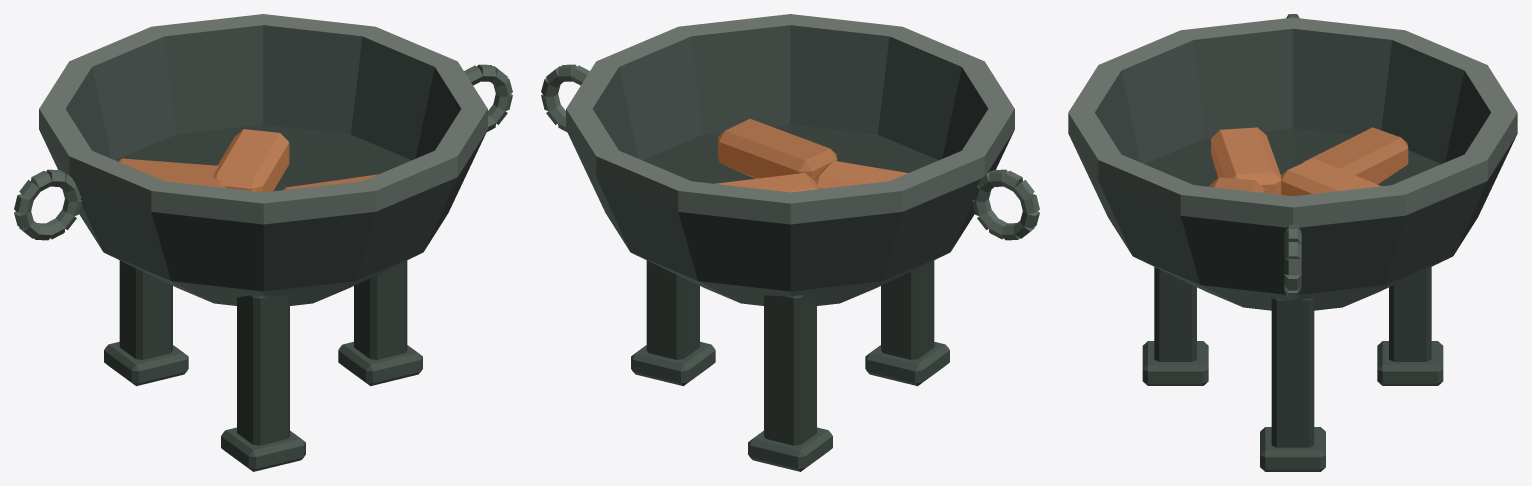
The model's file is GardenBrazier.glb.
3 renders of one model, left to right at view 1: azimuth 30°, elevation 25°; view 2: azimuth 150°, elevation 25°; view 3: azimuth 270°, elevation 25°, orthographic.
Parts seen in each view (by area): view 1: GardenBrazier_Metal, GardenBrazier_Embers; view 2: GardenBrazier_Metal, GardenBrazier_Embers; view 3: GardenBrazier_Metal, GardenBrazier_Embers.
Part boxes in pixels (bbox=[...]): GardenBrazier_Metal: bbox=[14, 14, 512, 471]; GardenBrazier_Embers: bbox=[118, 129, 377, 192]; GardenBrazier_Metal: bbox=[541, 14, 1039, 471]; GardenBrazier_Embers: bbox=[714, 118, 908, 192]; GardenBrazier_Metal: bbox=[1068, 14, 1517, 471]; GardenBrazier_Embers: bbox=[1209, 127, 1408, 196].
Bounding box in the file's own units: 0.8657 × 0.485 × 0.68.
